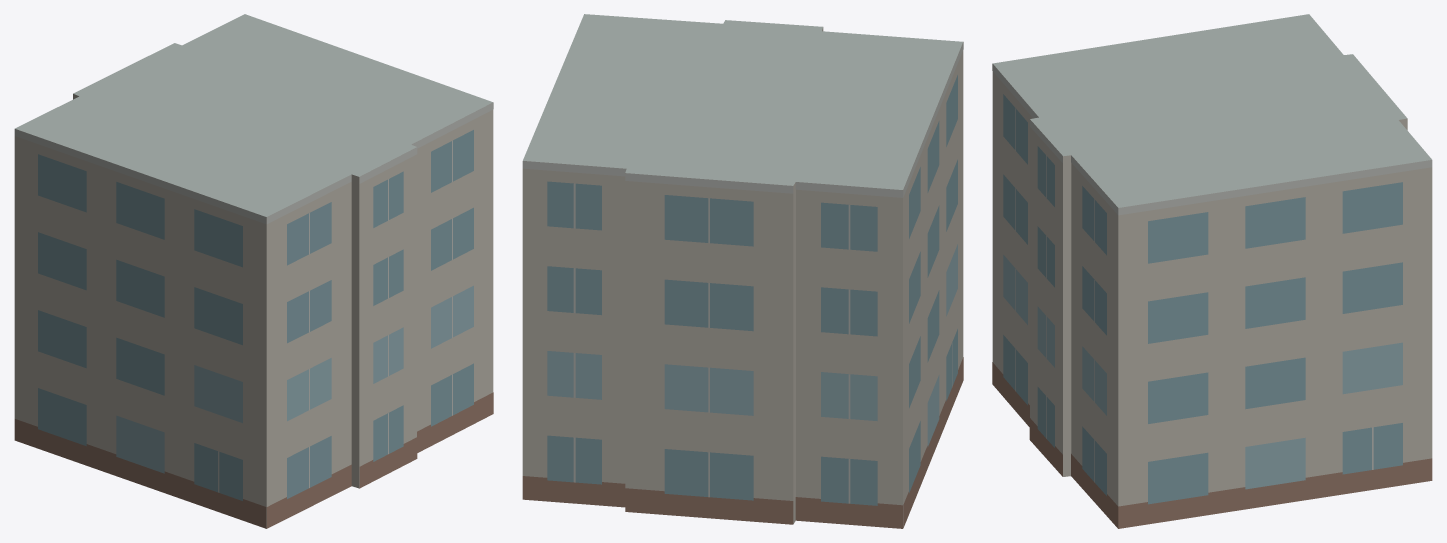
Rendered from survey-upis-32809246.glb.
3 views of the same model, side by side, from view 1: azimuth 30°, elevation 25°; view 2: azimuth 150°, elevation 25°; view 3: azimuth 270°, elevation 25° (orthographic). The views are drawn at different scales.
Visible parts, largest first — view 1: survey-upis-32809246.tmp; view 2: survey-upis-32809246.tmp; view 3: survey-upis-32809246.tmp.
Part boxes in pixels (bbox=[...]): survey-upis-32809246.tmp: bbox=[14, 14, 493, 528]; survey-upis-32809246.tmp: bbox=[522, 14, 963, 528]; survey-upis-32809246.tmp: bbox=[992, 14, 1432, 528].
Size of the model in its own units: 13.69 by 10.55 by 13.11.
